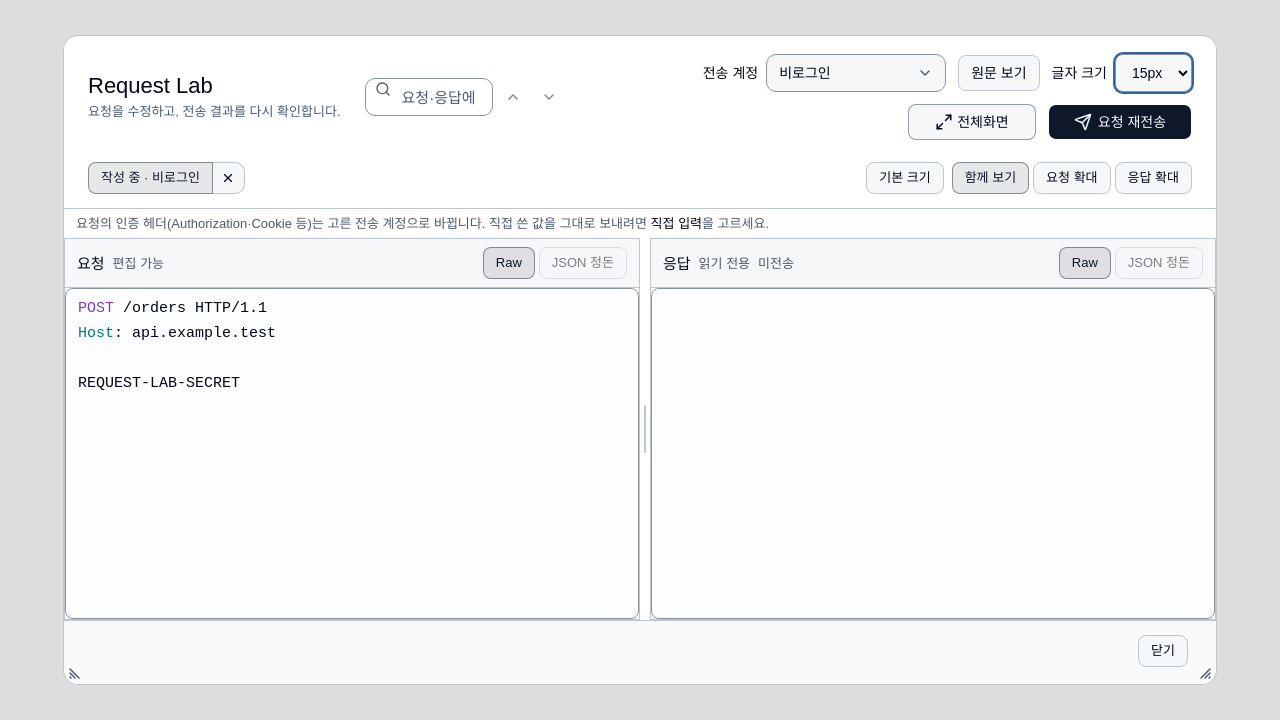
it: RequestLabDialog › deletes any tab on its own and stays on the tab being viewed
Expected: the dropdown named "전송 계정" reads "비로그인", [766, 54, 946, 92]
Expected: the dropdown named "전송 계정" is enabled, [766, 54, 946, 92]
Click the button "요청 재전송" at [1120, 122], box [1048, 104, 1192, 140]
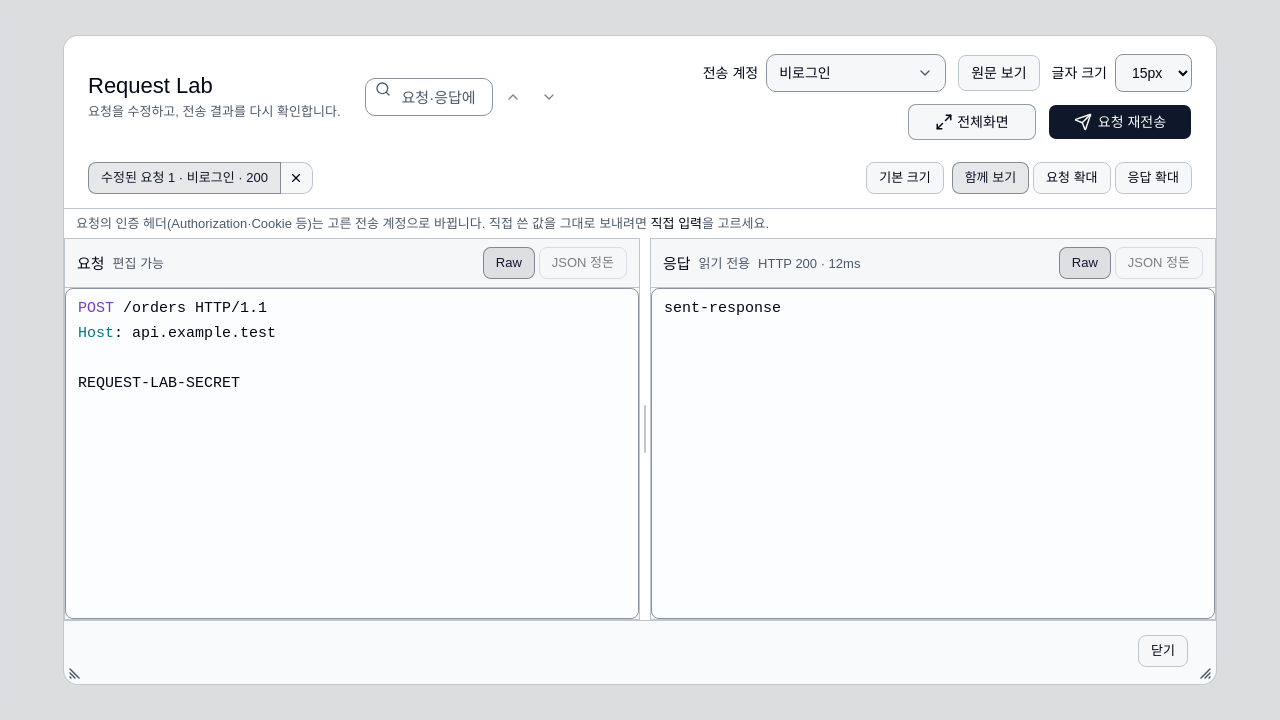
Now the button "수정된 요청 1 · 비로그인 · 200" is shown, box [88, 162, 281, 194]
Click the button "요청 재전송" at [1120, 122], box [1048, 104, 1192, 140]
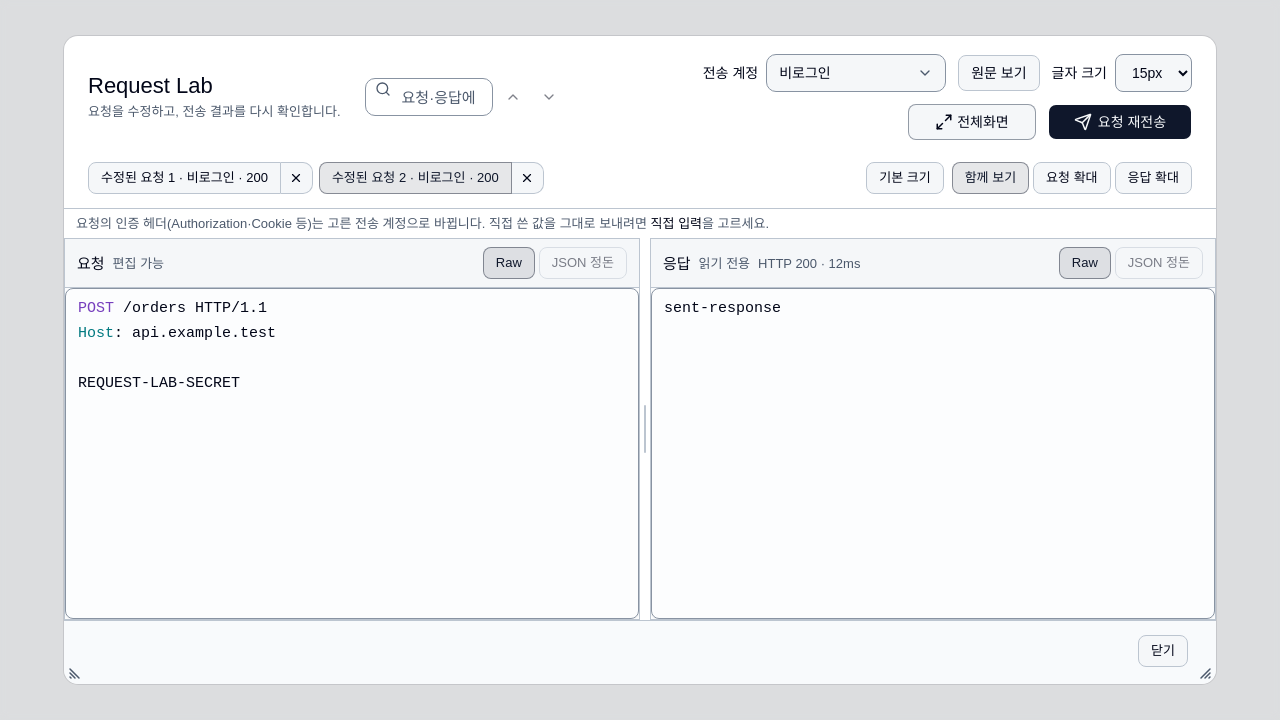
Now the button "수정된 요청 2 · 비로그인 · 200" is shown, box [319, 162, 512, 194]
Click the button "요청 재전송" at [1120, 122], box [1048, 104, 1192, 140]
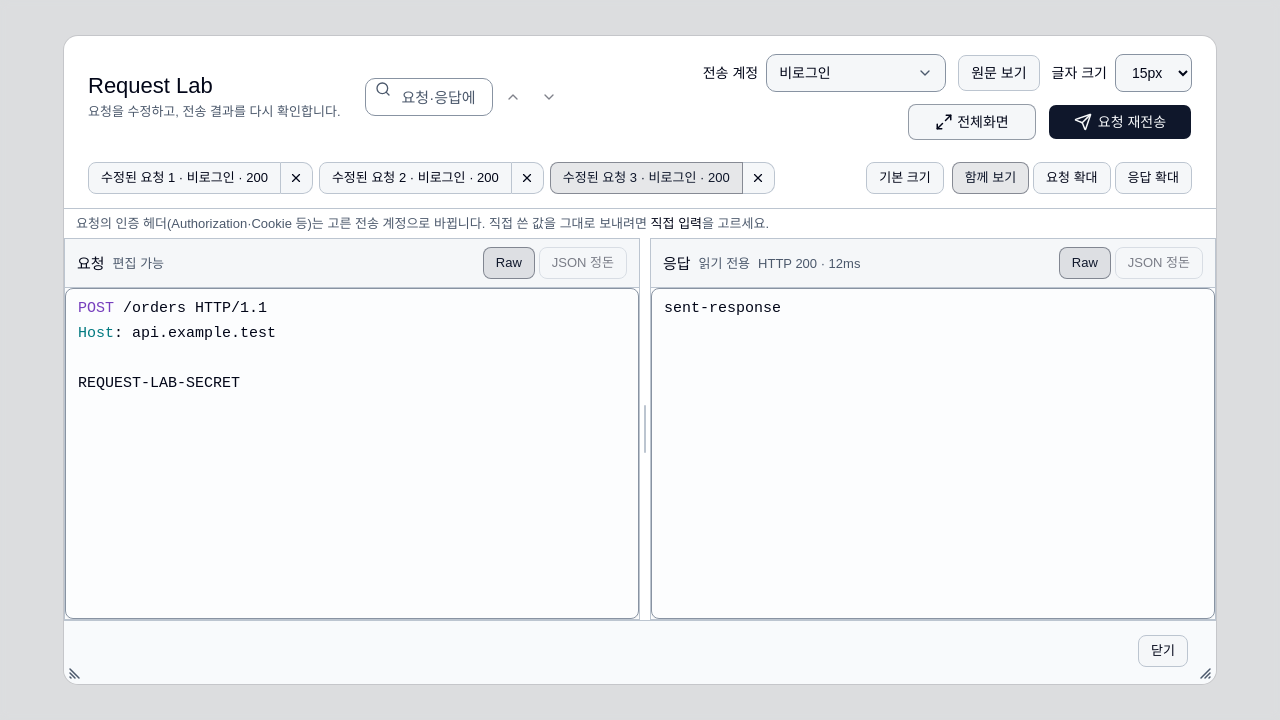
Now the button "수정된 요청 3 · 비로그인 · 200" is shown, box [550, 162, 743, 194]
Click the button named "수정된 요청 2 삭제" at [528, 178], box [512, 162, 544, 194]
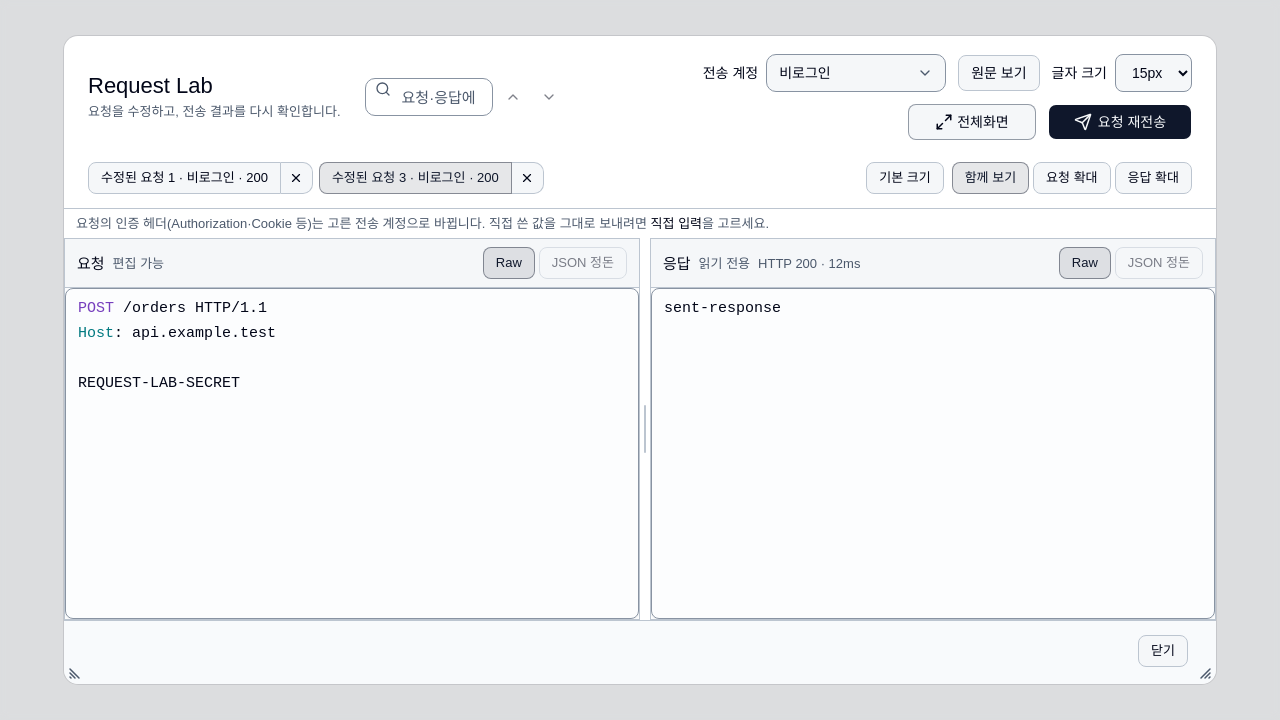
Now the button "수정된 요청 1 · 비로그인 · 200" is shown, box [88, 162, 281, 194]
Now the button "수정된 요청 2 · 비로그인 · 200" is gone
